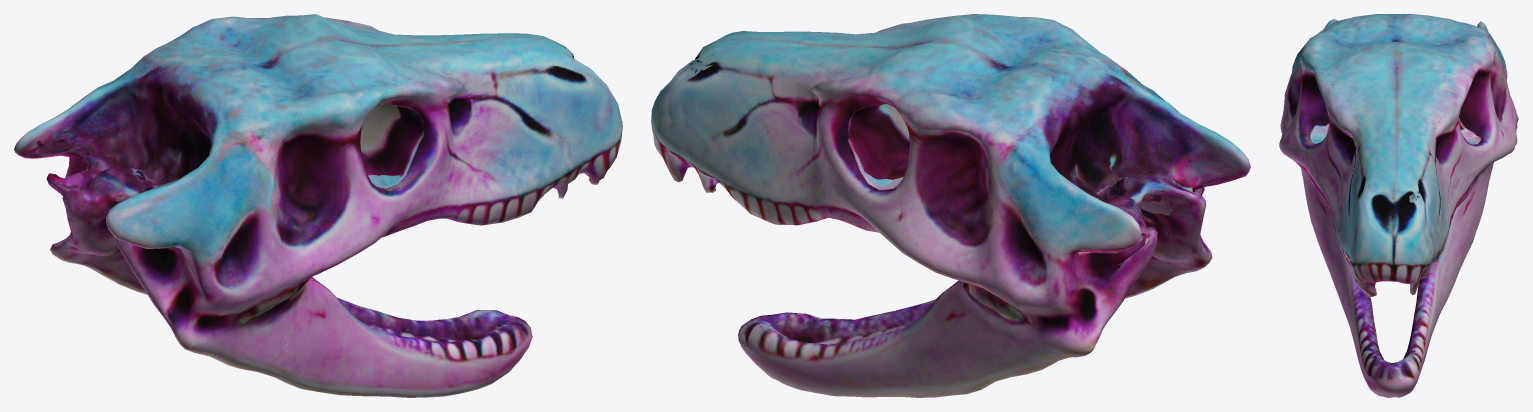
Rendered from d40feeac6db7_exotic_otherwordly_.fbx.
3 renders of one model, left to right at view 1: azimuth 30°, elevation 25°; view 2: azimuth 150°, elevation 25°; view 3: azimuth 270°, elevation 25°, orthographic. The views are drawn at different scales.
Visible parts, largest first — view 1: mesh; view 2: mesh; view 3: mesh.
Boxes of the visible parts, x1,y1,x2,y2 form: mesh: [14, 14, 622, 397]; mesh: [651, 14, 1250, 397]; mesh: [1279, 14, 1518, 397].
Size of the model in its own units: 99.56 by 65.46 by 50.05.
